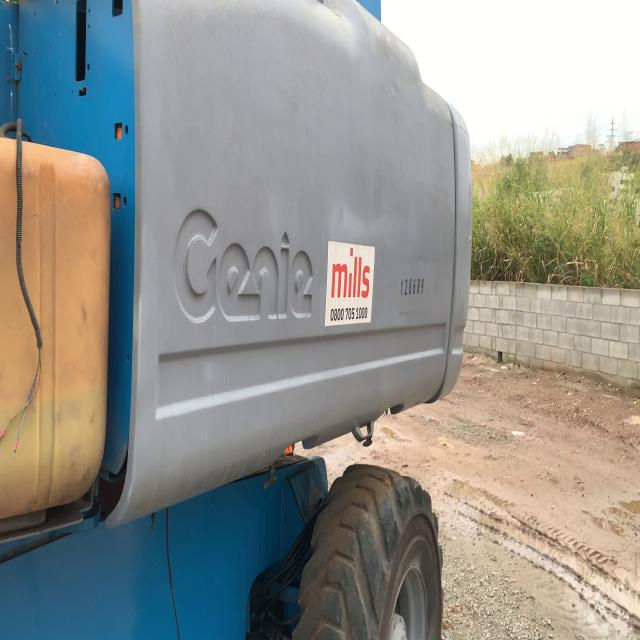Adesivos: (324, 239, 376, 328)
